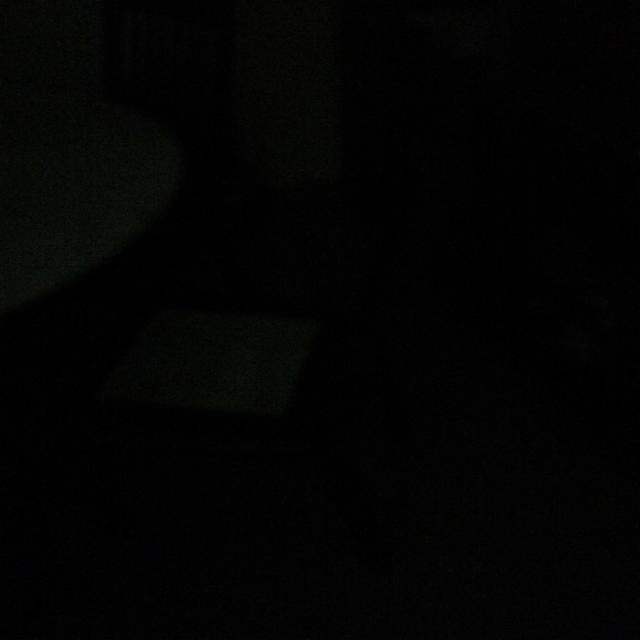Table: (0, 77, 212, 369)
chair: (110, 283, 390, 471)
